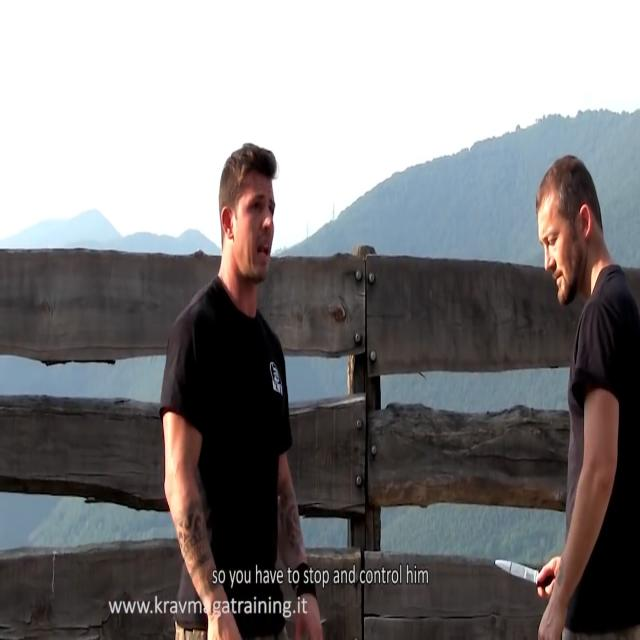knife: (496, 550, 538, 588)
